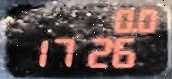-: (130, 27, 137, 32)
0: (137, 8, 155, 31), (114, 9, 131, 31)
1: (37, 39, 47, 66)
2: (86, 37, 110, 66)
6: (111, 37, 134, 66)
7: (52, 37, 73, 66)
